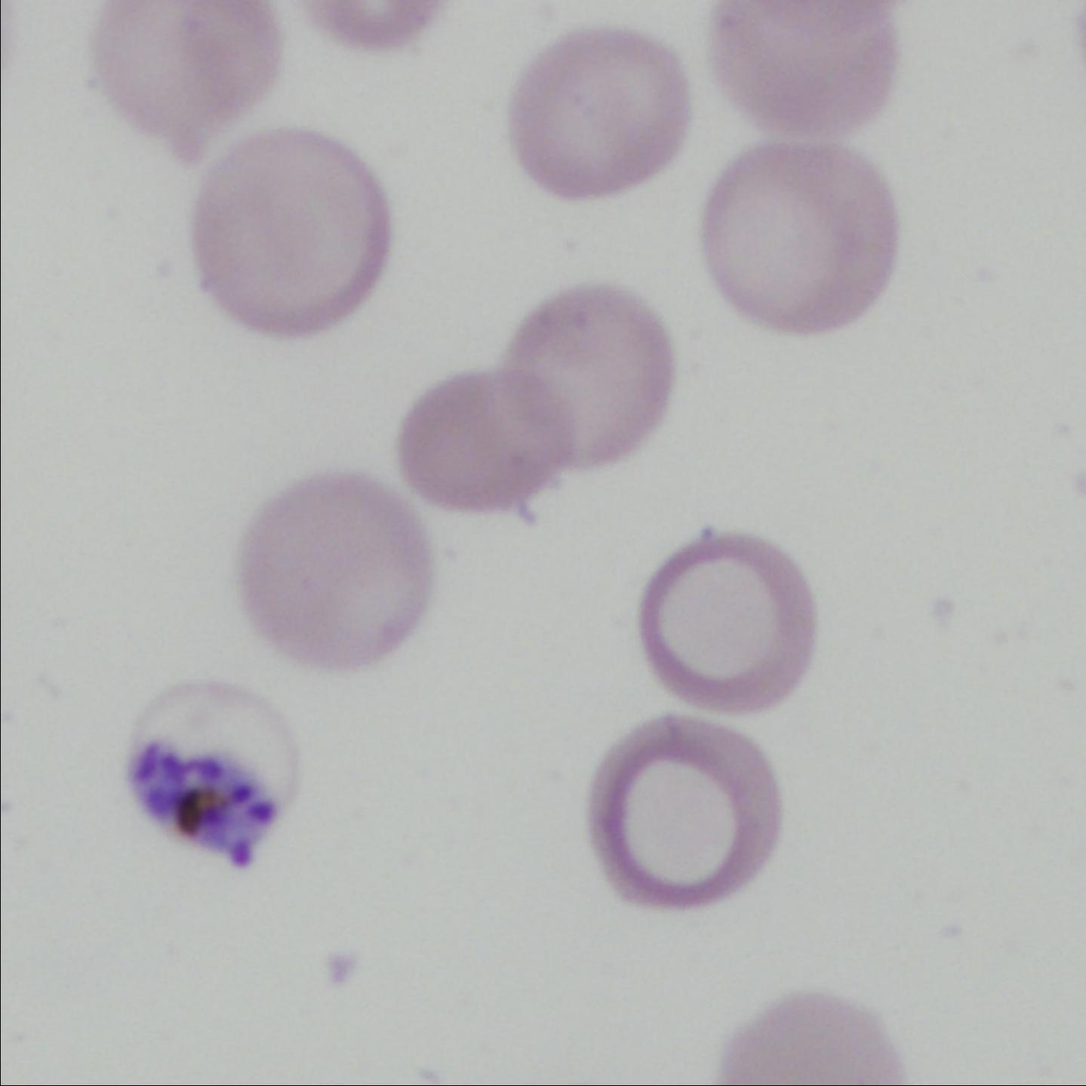Infected: (123, 675, 307, 869)
Uninfected: (191, 129, 387, 338), (589, 718, 785, 912), (239, 474, 429, 674), (704, 139, 894, 328), (498, 285, 673, 476), (639, 529, 813, 719), (508, 26, 693, 199), (91, 0, 270, 167), (397, 368, 574, 513), (714, 0, 893, 139)
